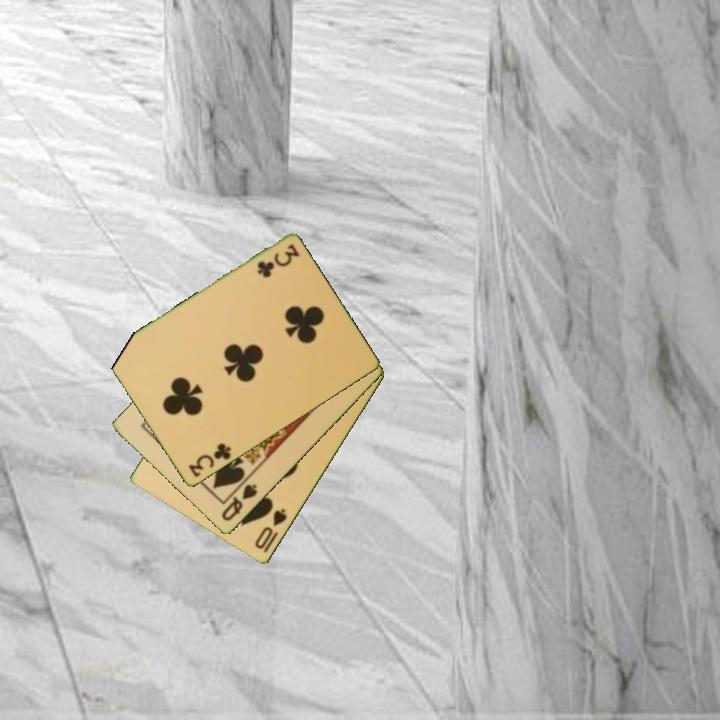10s: (251, 505, 290, 553)
3c: (185, 440, 234, 481), (253, 241, 302, 280)
Qs: (218, 480, 261, 525)
